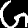G: (0, 0, 28, 28)
